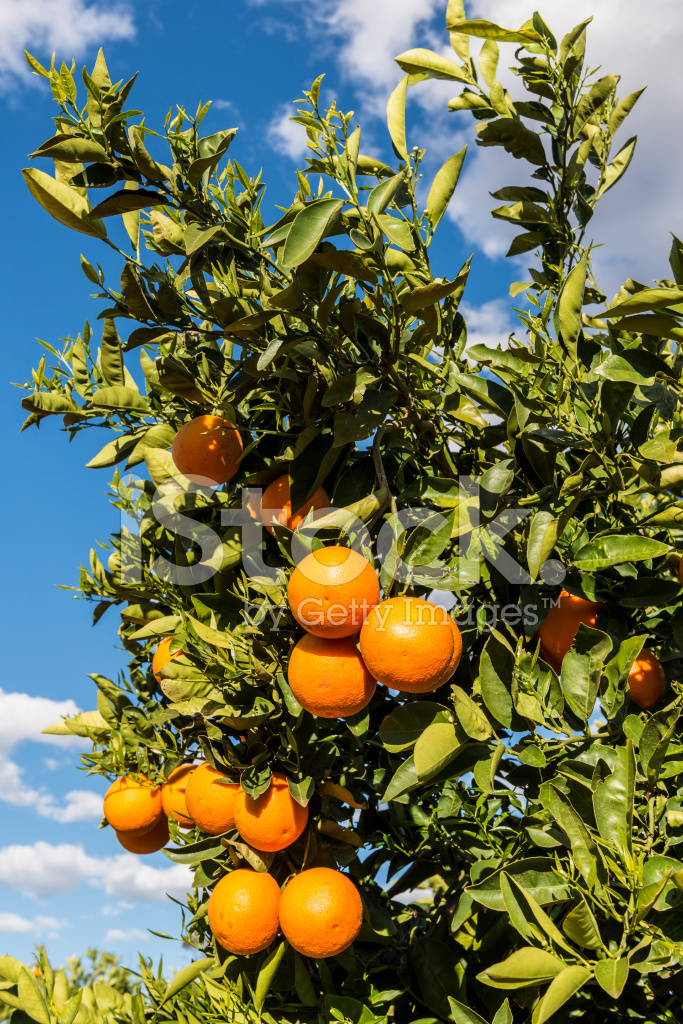orange: (358, 597, 454, 688), (289, 545, 379, 638), (288, 629, 377, 719), (277, 867, 361, 957), (207, 868, 280, 955), (389, 606, 462, 692), (233, 767, 307, 851), (172, 414, 244, 485), (259, 474, 334, 542), (537, 589, 607, 657), (185, 762, 241, 833), (602, 646, 662, 712), (103, 771, 164, 830), (113, 803, 169, 854), (154, 628, 198, 689), (162, 764, 203, 828)
